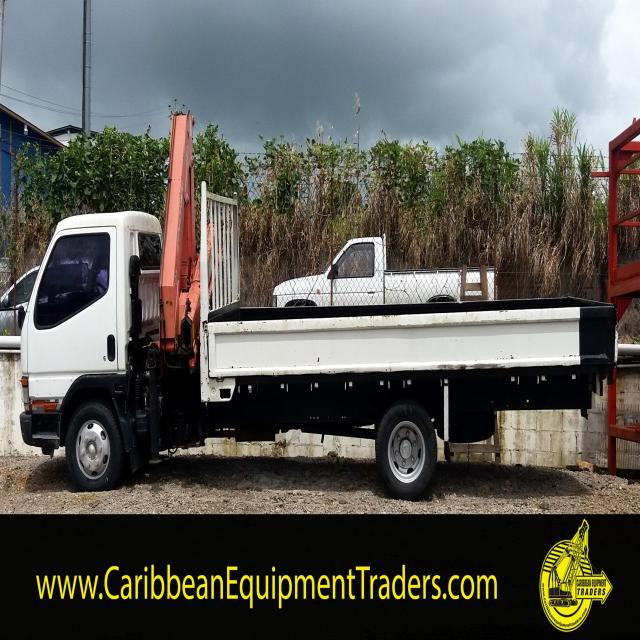truck: (21, 109, 620, 489)
